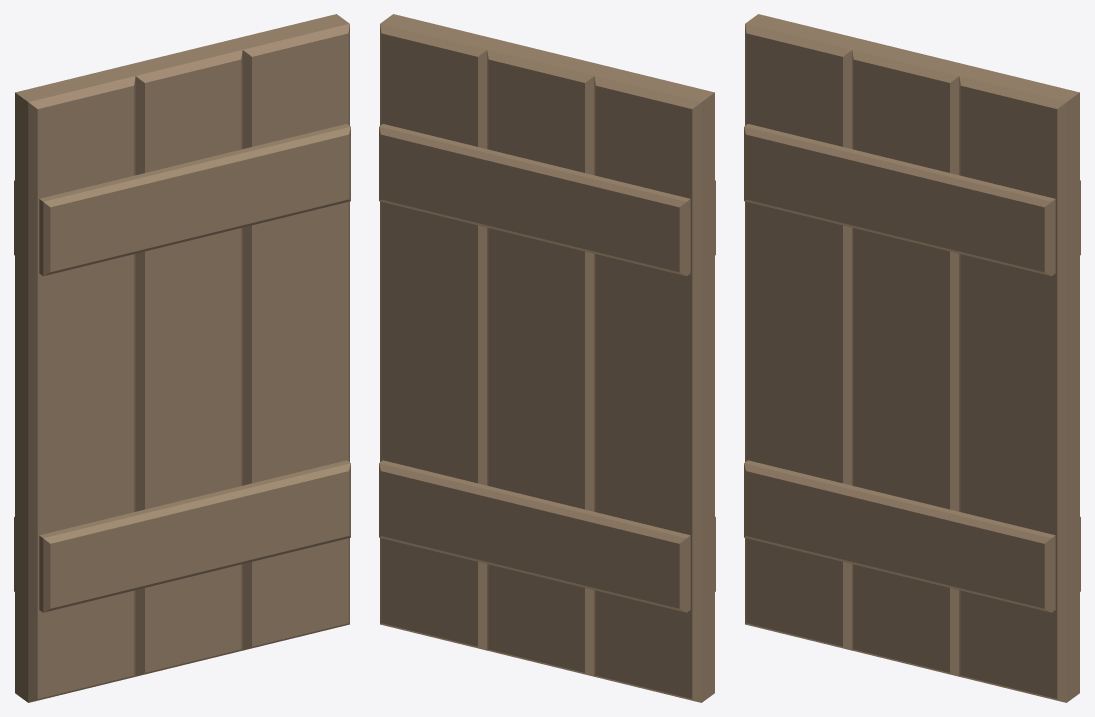
Rendered from fantasy_door_1.fbx.
3 views of the same model, side by side, from view 1: azimuth 30°, elevation 25°; view 2: azimuth 150°, elevation 25°; view 3: azimuth 330°, elevation 25° (orthographic).
Visible parts, largest first — view 1: Cube.037; view 2: Cube.037; view 3: Cube.037.
Boxes of the visible parts, left/top/right/bottom form: Cube.037: left=14, top=14, right=350, bottom=702; Cube.037: left=379, top=14, right=715, bottom=702; Cube.037: left=744, top=14, right=1080, bottom=702.
Size of the model in its own units: 140 by 250 by 26.
